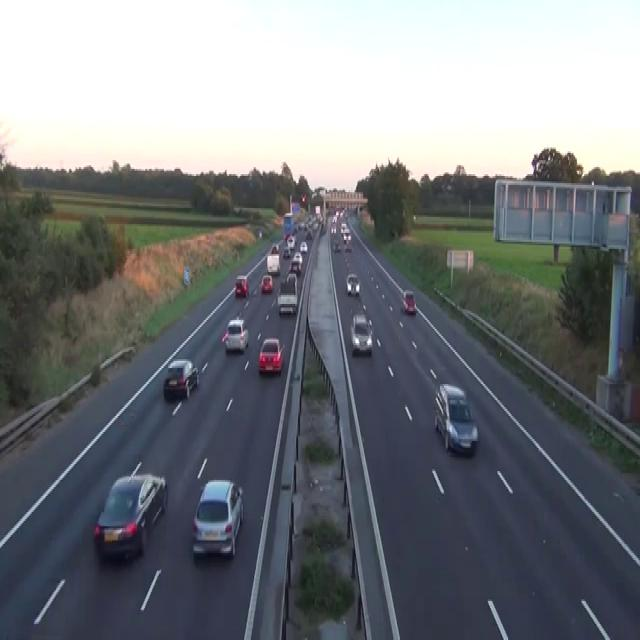Car: (93, 460, 167, 562), (191, 478, 244, 560), (433, 382, 478, 455), (163, 359, 199, 398), (221, 316, 249, 352), (258, 338, 284, 373), (350, 313, 372, 354), (401, 290, 416, 313), (234, 274, 249, 297), (346, 272, 360, 295), (266, 252, 280, 274), (260, 274, 273, 293), (340, 222, 351, 242), (289, 258, 301, 274), (285, 270, 297, 286), (286, 235, 296, 249), (293, 251, 302, 263), (332, 238, 340, 251), (282, 245, 290, 258), (299, 240, 307, 252), (270, 244, 279, 254), (343, 231, 351, 242), (340, 222, 347, 231), (305, 230, 312, 238), (344, 243, 351, 250), (300, 194, 306, 202), (330, 226, 336, 234), (258, 228, 262, 238)
Truck: (276, 272, 297, 315), (283, 212, 293, 234)
